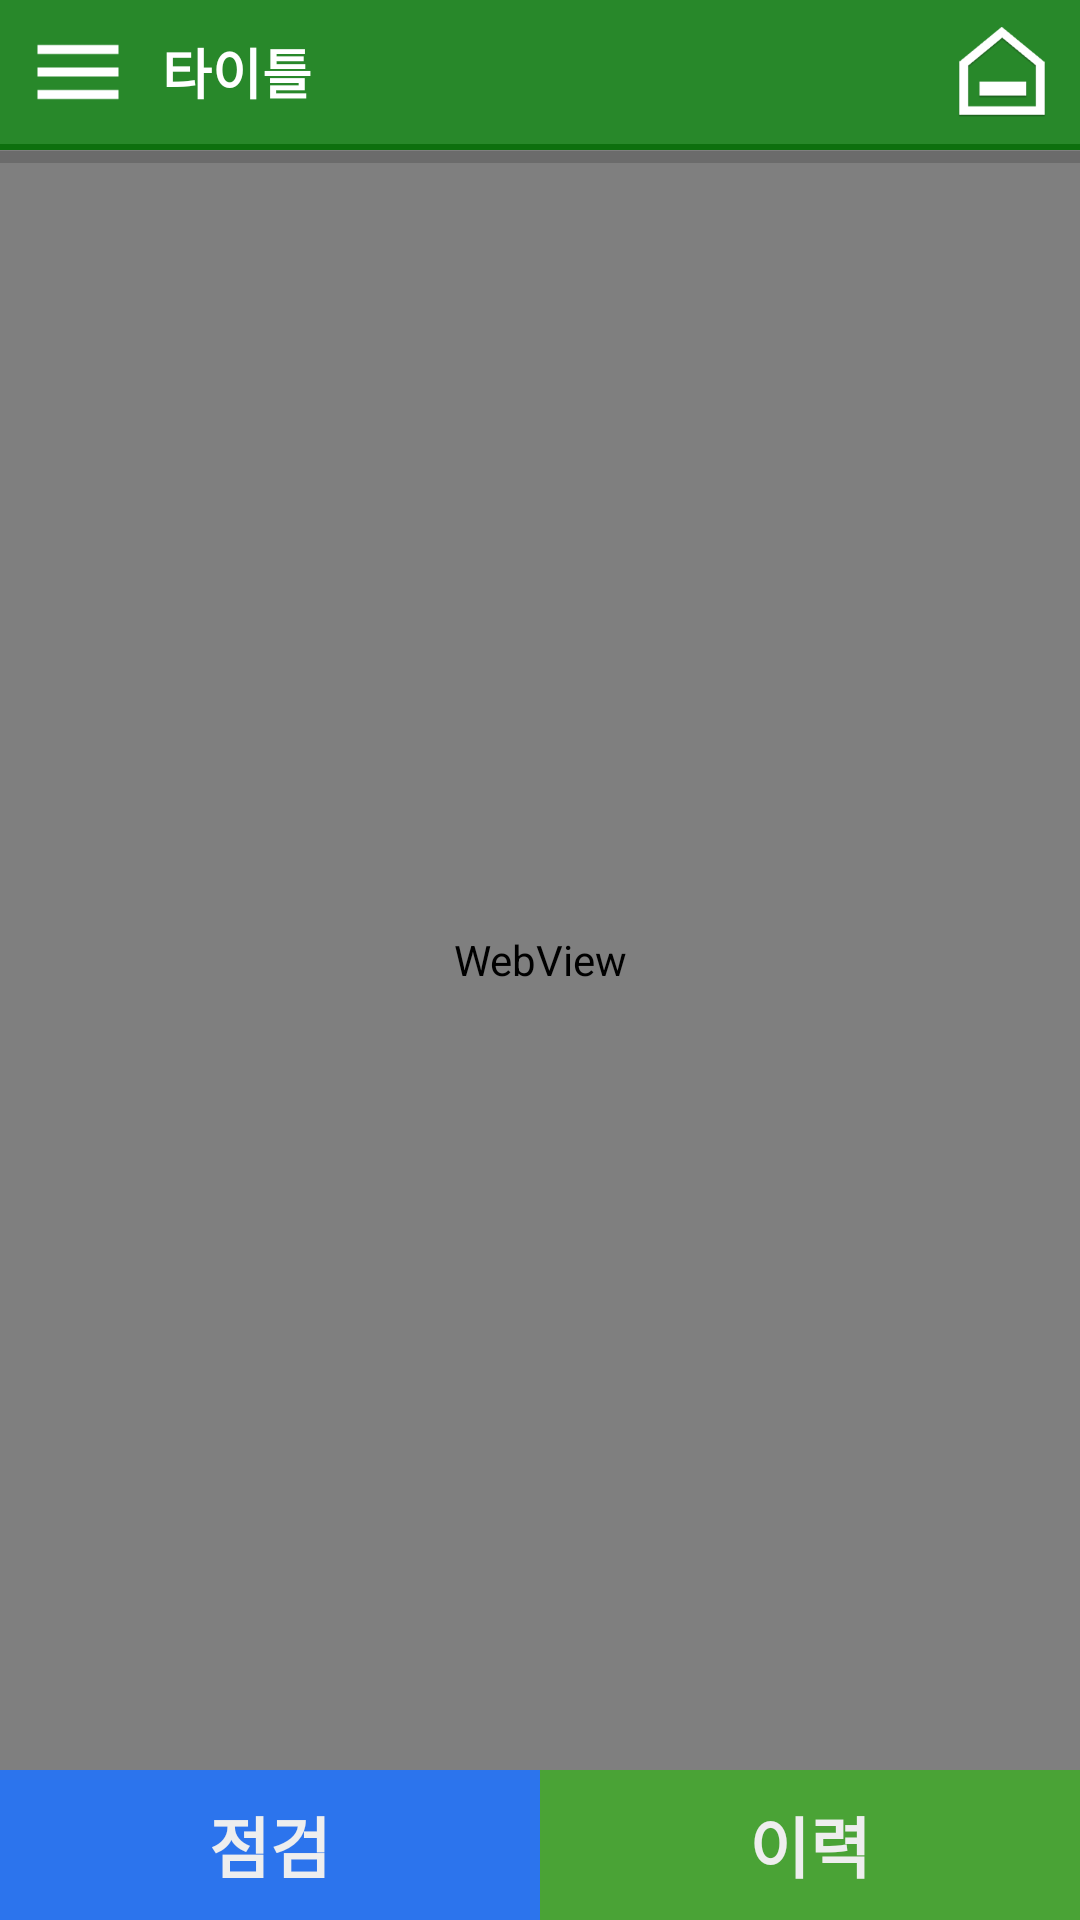

Icon bounding boxes for this 1080 x 1920 phone screenshot, format (x1,y1,x2,y2):
menu: (37,44,119,100)
top home: (959,27,1045,116)
